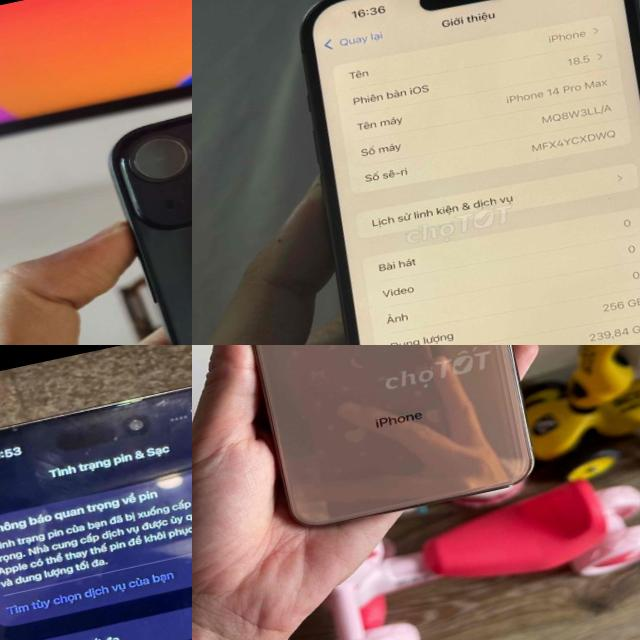scratch: (166, 374, 192, 416), (0, 413, 31, 443)
